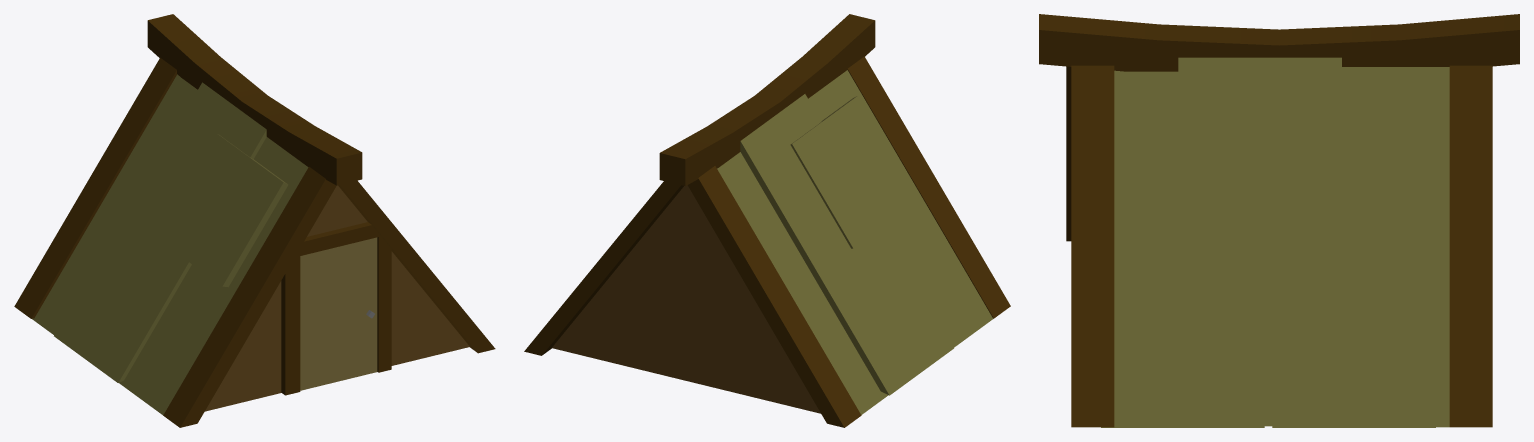
Rendered from Mesh_Farm_Smol_Ramp.fbx.
3 views of the same model, side by side, from view 1: azimuth 30°, elevation 25°; view 2: azimuth 150°, elevation 25°; view 3: azimuth 270°, elevation 25° (orthographic). The views are drawn at different scales.
Visible parts, largest first — view 1: Farm_Smol_Ramp; view 2: Farm_Smol_Ramp; view 3: Farm_Smol_Ramp.
Part boxes in pixels (<box>): Farm_Smol_Ramp: <box>14,14,495,427</box>; Farm_Smol_Ramp: <box>524,14,1010,427</box>; Farm_Smol_Ramp: <box>1039,14,1519,427</box>.
Size of the model in its own units: 539 by 388 by 547.
1 material, 1 textured.
